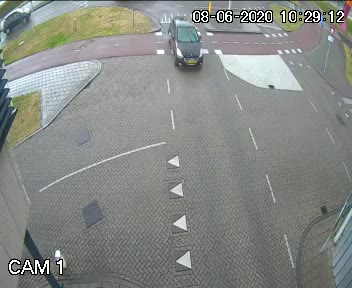car: (166, 10, 216, 83), (0, 3, 34, 30)
